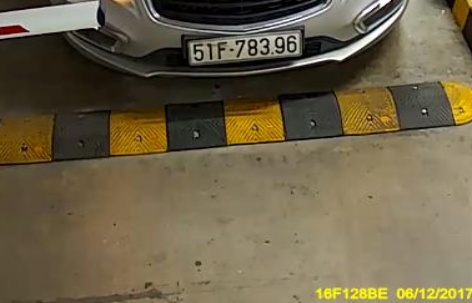plate: (185, 26, 308, 71)
